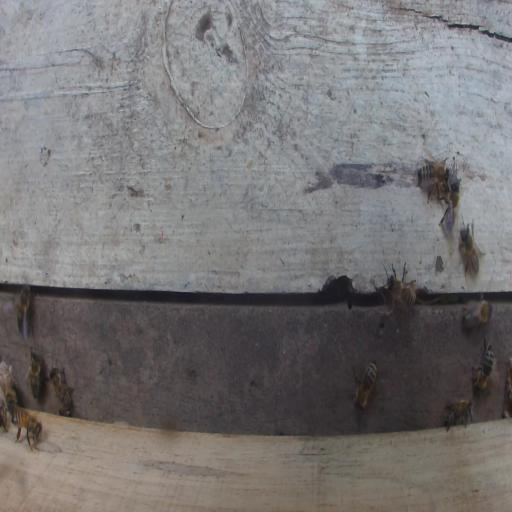Insects: (389, 262, 419, 319), (459, 218, 486, 279), (417, 152, 450, 201), (11, 404, 43, 450), (471, 335, 494, 392), (353, 360, 378, 411), (439, 180, 460, 233), (443, 398, 474, 431), (49, 366, 72, 410), (461, 298, 492, 330), (16, 283, 33, 341), (29, 348, 43, 400), (1, 363, 17, 406)
